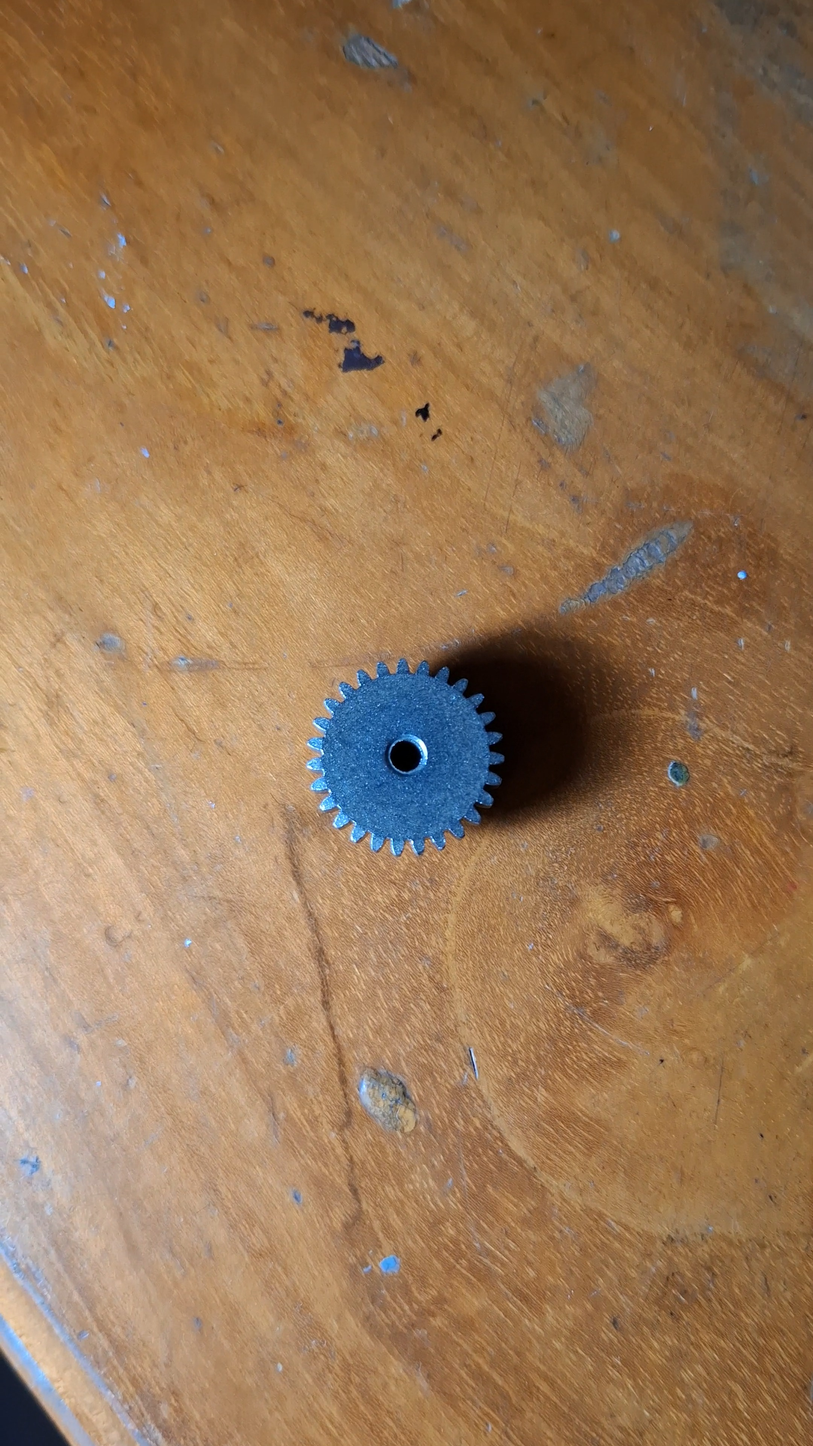spur gear: (307, 659, 503, 855)
